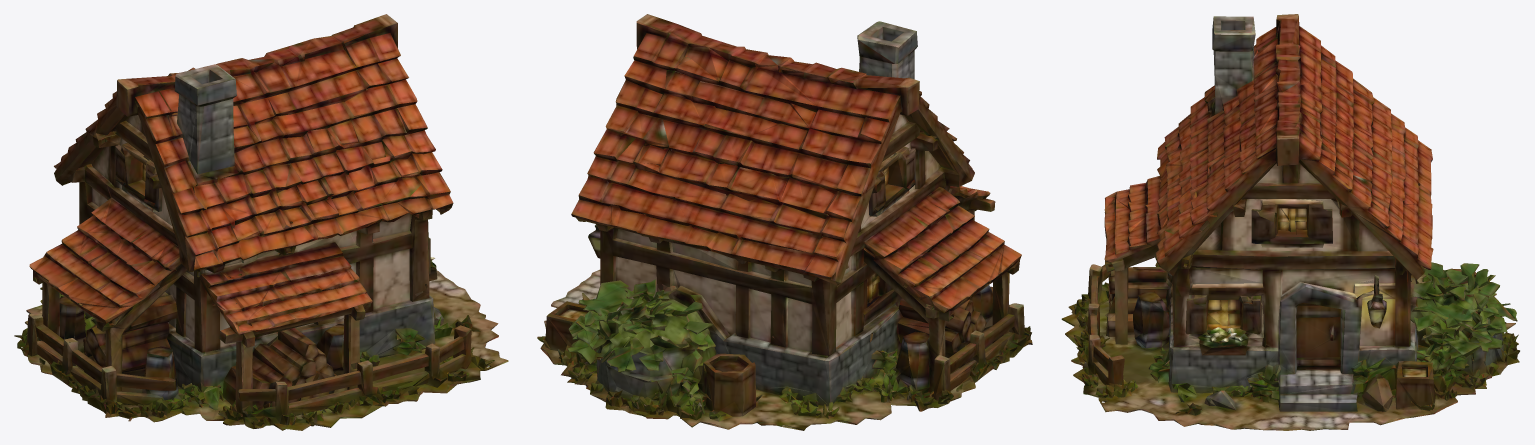
Rendered from peasntHouse1WithMesh_00001_.glb.
The picture shows the model from 3 angles, left to right: view 1: azimuth 30°, elevation 25°; view 2: azimuth 150°, elevation 25°; view 3: azimuth 270°, elevation 25°; orthographic projection. The views are drawn at different scales.
Visible parts, largest first — view 1: geometry_0; view 2: geometry_0; view 3: geometry_0.
Part boxes in pixels (left/top/right/bottom): geometry_0: left=14, top=14, right=508, bottom=430; geometry_0: left=537, top=14, right=1032, bottom=430; geometry_0: left=1061, top=14, right=1519, bottom=430.
Size of the model in its own units: 0.9625 by 0.6807 by 1.
1 material, 1 textured.
